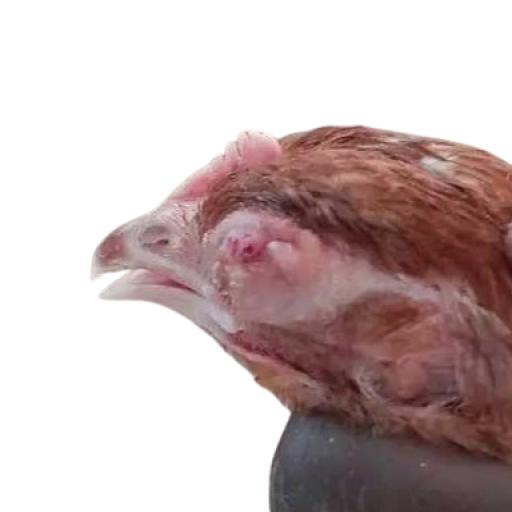disease: (186, 184, 368, 326)
